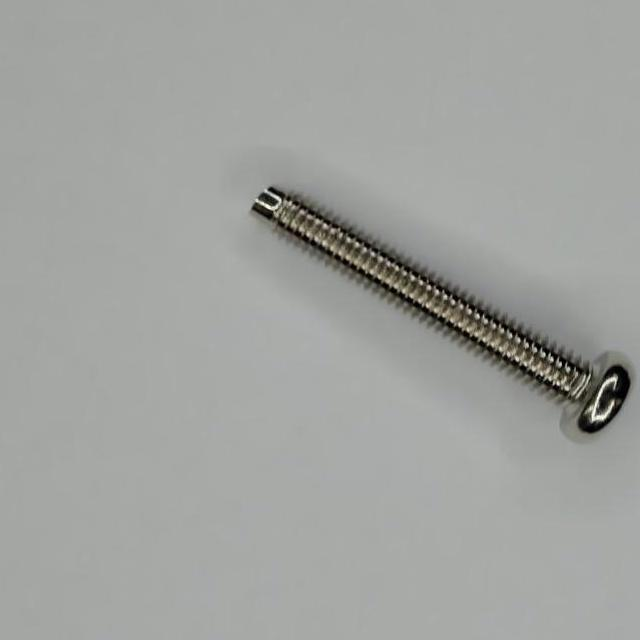Screw: (253, 187, 632, 434)
